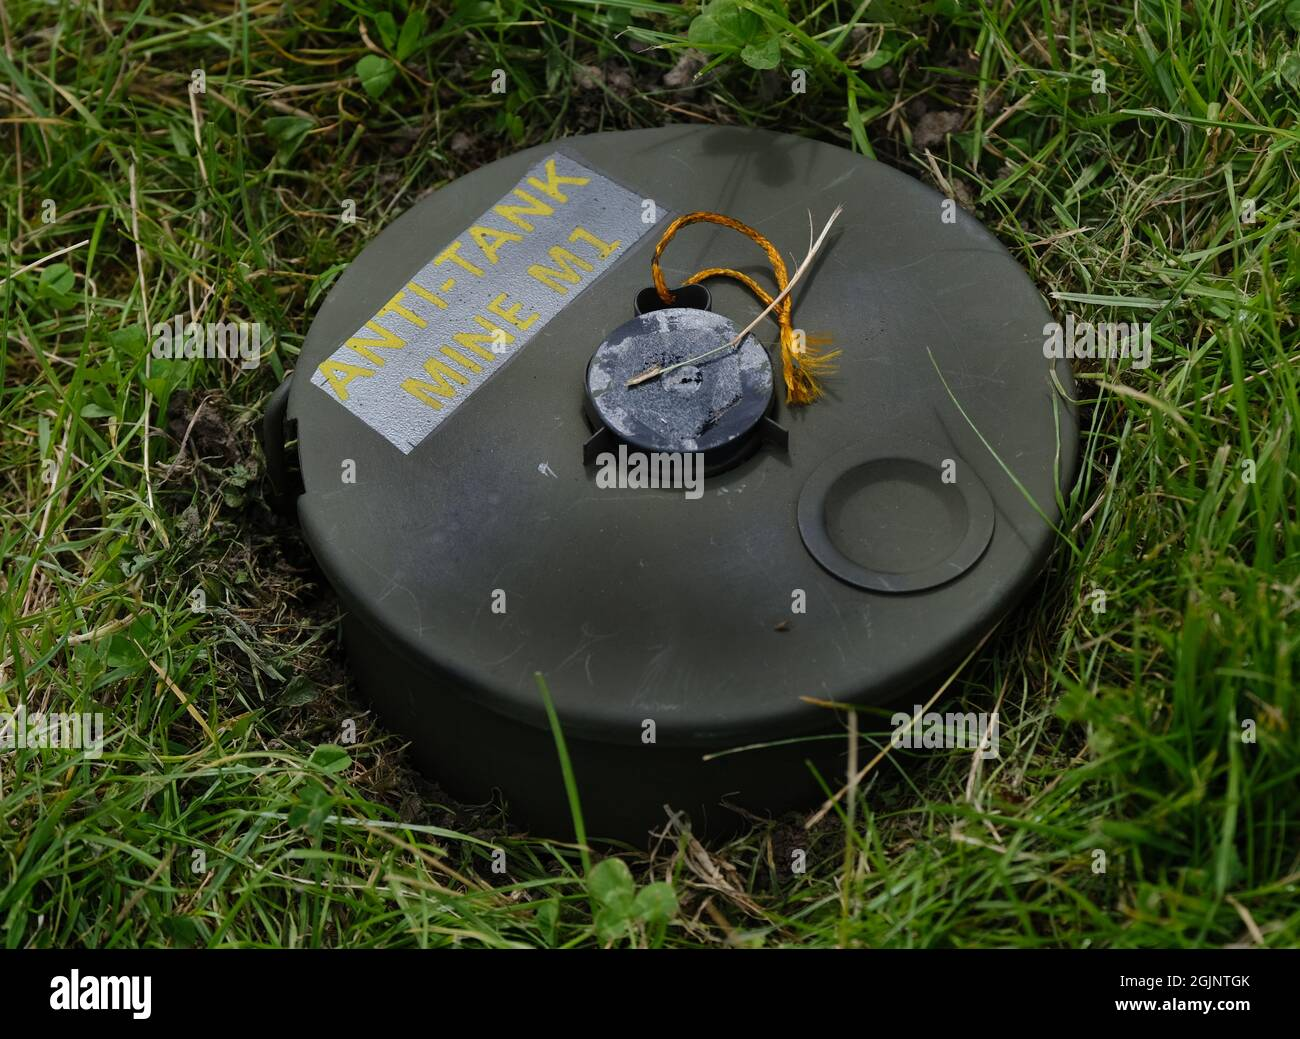car: (212, 67, 1154, 862)
